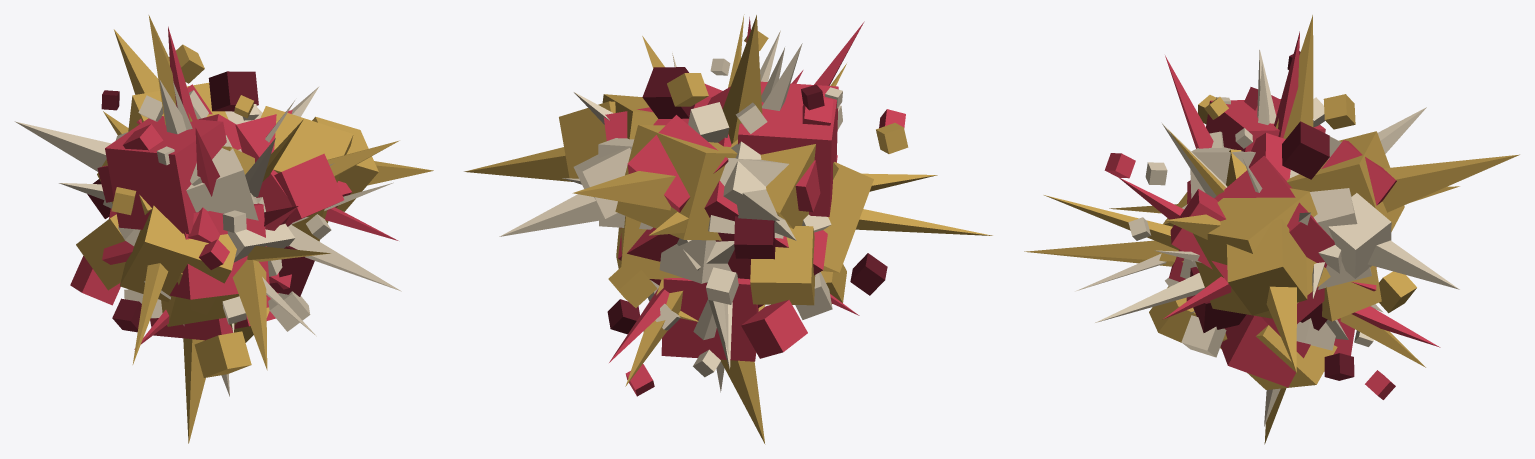
File: explosion.fbx
The picture shows the model from 3 angles, left to right: view 1: azimuth 30°, elevation 25°; view 2: azimuth 150°, elevation 25°; view 3: azimuth 270°, elevation 25°; orthographic projection. The views are drawn at different scales.
Visible parts, largest first — view 1: Cube.052; view 2: Cube.052; view 3: Cube.052.
Part boxes in pixels (x1,y1,x2,y2): Cube.052: (14,15,433,443); Cube.052: (464,14,992,444); Cube.052: (1024,15,1519,444).
Size of the model in its own units: 1473 by 1486 by 1584.
